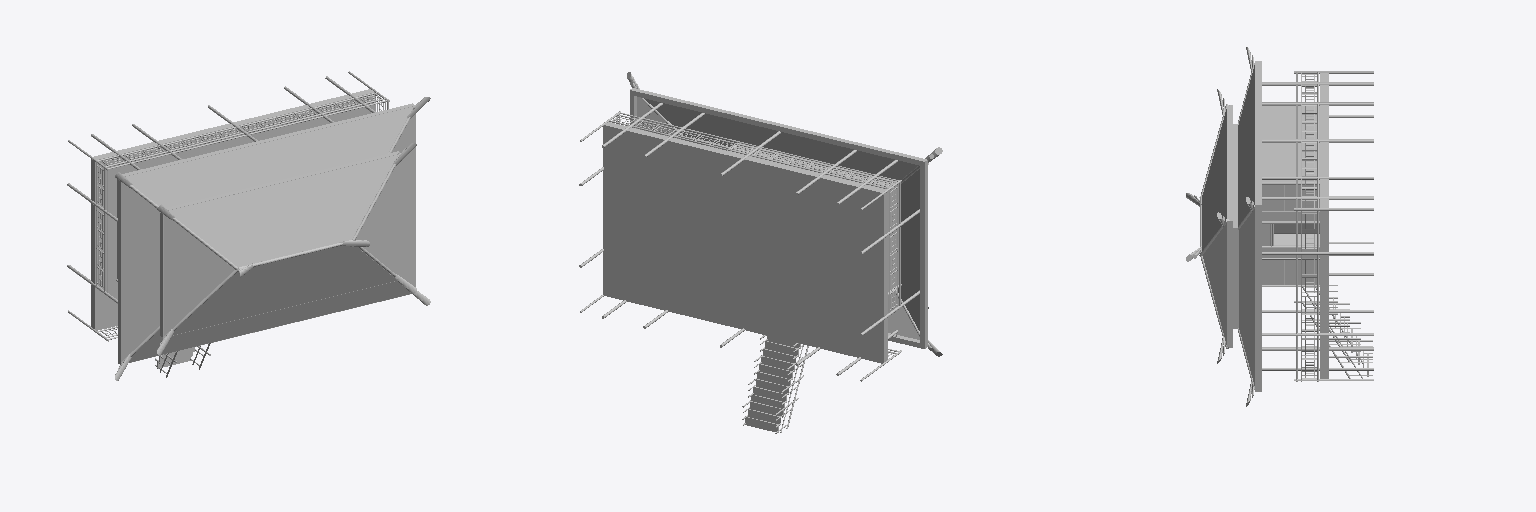
3 views of the same model, side by side, from view 1: azimuth 30°, elevation 25°; view 2: azimuth 150°, elevation 25°; view 3: azimuth 270°, elevation 25° (orthographic).
Parts seen in each view (by area): view 1: Rectangle08, Rectangle04, Rectangle07, Rectangle01, Rectangle05, Rectangle09, Rectangle03, Rectangle10, Rectangle06, Rectangle12, Rectangle11; view 2: Rectangle01, Rectangle04, Rectangle12, Rectangle05, Rectangle13, Rectangle03; view 3: Rectangle13, Rectangle01, Rectangle12, Rectangle06, Rectangle08, Rectangle04, Rectangle10, Rectangle11, Rectangle02.
Boxes of the visible parts, box(x1,y1,x2,y2) form: Rectangle08: box(169, 155, 397, 266); Rectangle04: box(126, 106, 414, 207); Rectangle07: box(172, 246, 396, 335); Rectangle01: box(91, 89, 375, 330); Rectangle05: box(121, 182, 159, 363); Rectangle09: box(164, 215, 234, 335); Rectangle03: box(129, 281, 411, 362); Rectangle10: box(355, 162, 400, 276); Rectangle06: box(392, 114, 415, 286); Rectangle12: box(118, 103, 415, 364); Rectangle11: box(160, 151, 401, 336); Rectangle01: box(603, 122, 887, 363); Rectangle04: box(644, 98, 918, 179); Rectangle12: box(630, 88, 927, 348); Rectangle05: box(898, 169, 919, 330); Rectangle13: box(730, 143, 898, 291); Rectangle03: box(888, 291, 919, 339); Rectangle13: box(1262, 106, 1319, 284); Rectangle01: box(1320, 73, 1328, 378); Rectangle12: box(1255, 61, 1261, 391); Rectangle06: box(1239, 209, 1254, 385); Rectangle08: box(1202, 109, 1226, 250); Rectangle04: box(1238, 65, 1254, 225); Rectangle10: box(1203, 223, 1226, 344); Rectangle11: box(1227, 105, 1232, 347); Rectangle02: box(1233, 124, 1238, 328).
Bounding box in the file's own units: 1625 × 1318 × 840.